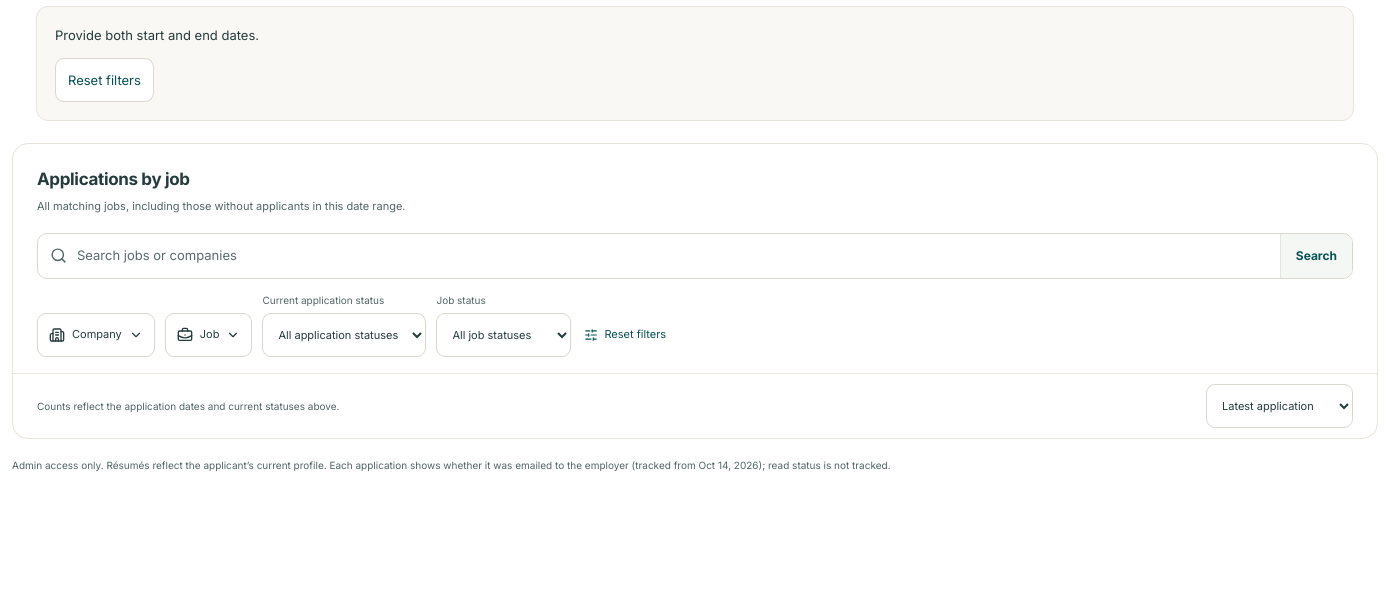
Applications workspace URL state › stops an invalid date query before any data read and offers a working reset
Expected: the message shows "Provide both start and end dates.", [55,27,259,43]
Click the button "Reset filters" below "Provide both start and end dates.": click(104, 80) [55,58,154,102]
(page scrolled)
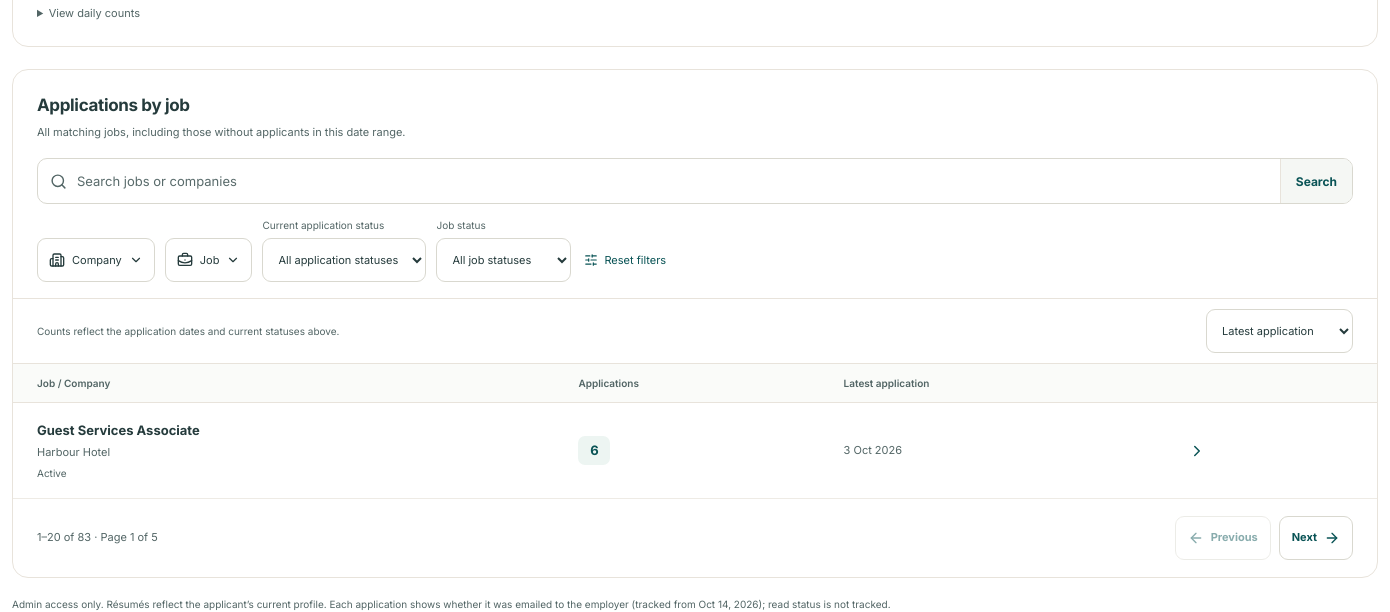
Expected: the link "Guest Services Associate" is shown, [37,422,200,438]
